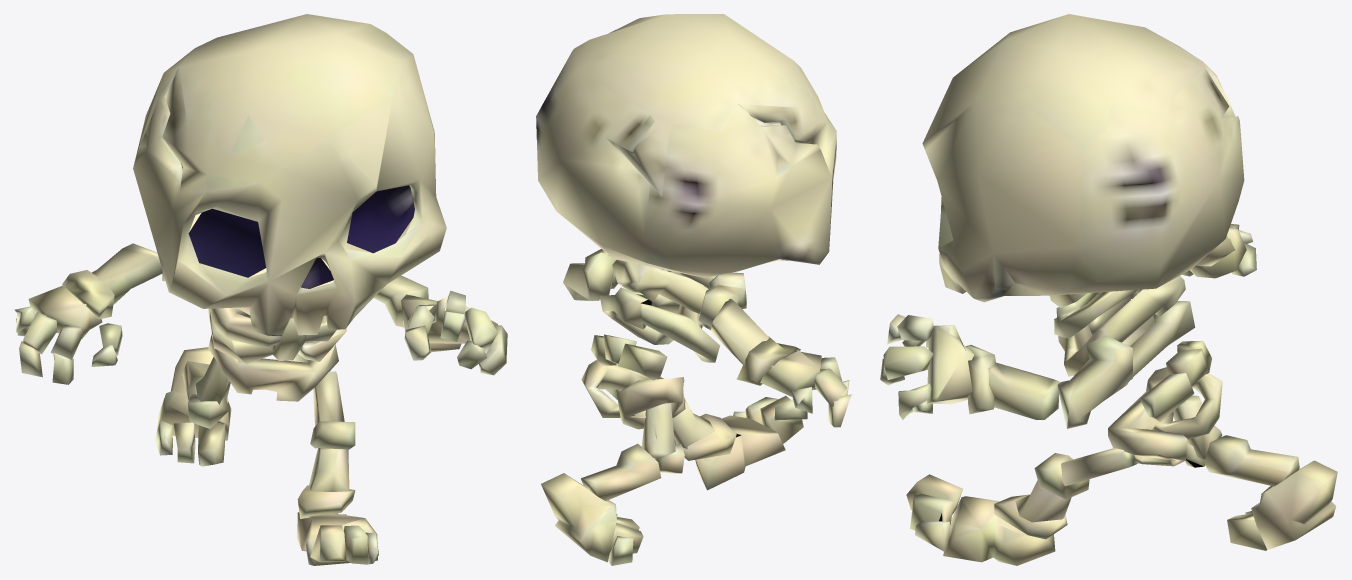
Rendered from kit-skeleton.lod.glb.
3 views of the same model, side by side, from view 1: azimuth 30°, elevation 25°; view 2: azimuth 150°, elevation 25°; view 3: azimuth 270°, elevation 25° (orthographic). The views are drawn at different scales.
Parts seen in each view (by area): view 1: WBA_Character_Skeleton_01_WBA_MAT_Halloween_Atlas_0.001; view 2: WBA_Character_Skeleton_01_WBA_MAT_Halloween_Atlas_0.001; view 3: WBA_Character_Skeleton_01_WBA_MAT_Halloween_Atlas_0.001.
Boxes of the visible parts, x1,y1,x2,y2 form: WBA_Character_Skeleton_01_WBA_MAT_Halloween_Atlas_0.001: (14,14,507,565); WBA_Character_Skeleton_01_WBA_MAT_Halloween_Atlas_0.001: (536,14,851,565); WBA_Character_Skeleton_01_WBA_MAT_Halloween_Atlas_0.001: (880,14,1337,565).
Bounding box in the file's own units: 1.09 × 1.42 × 1.12.
Materials: 1 (1 with a texture image).
